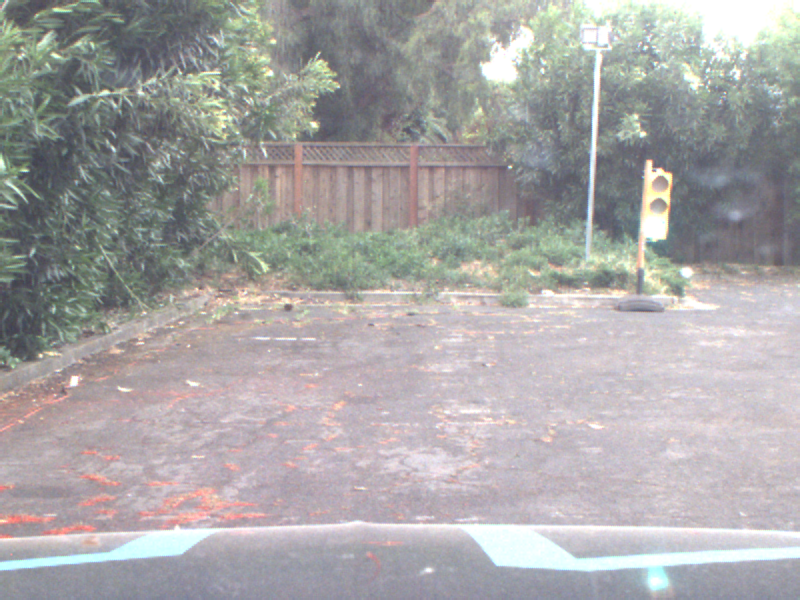Green: (643, 169, 670, 241)
